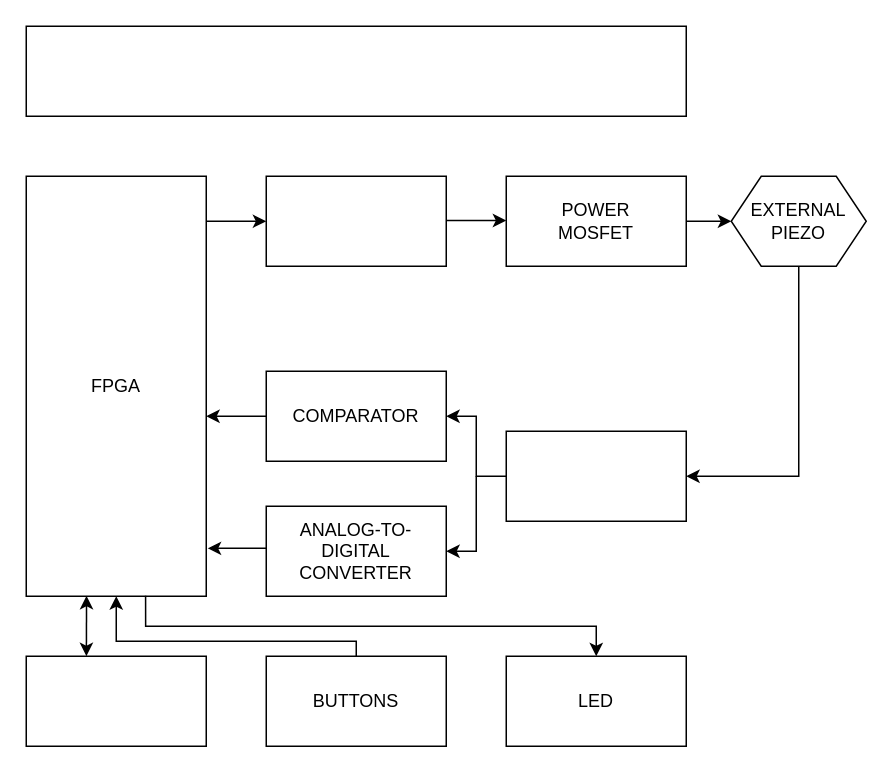
This 893x773 diagram has some shape labels left out. Each missing label, with the centre of its shape:
"LOW NOISE AMPLIFIER" goes at pixel 595 475.
"MOSFET GATE DRIVER" goes at pixel 355 220.
"POWER SUPPLY" goes at pixel 355 70.
"SERIAL INTERFACE" goes at pixel 115 700.
